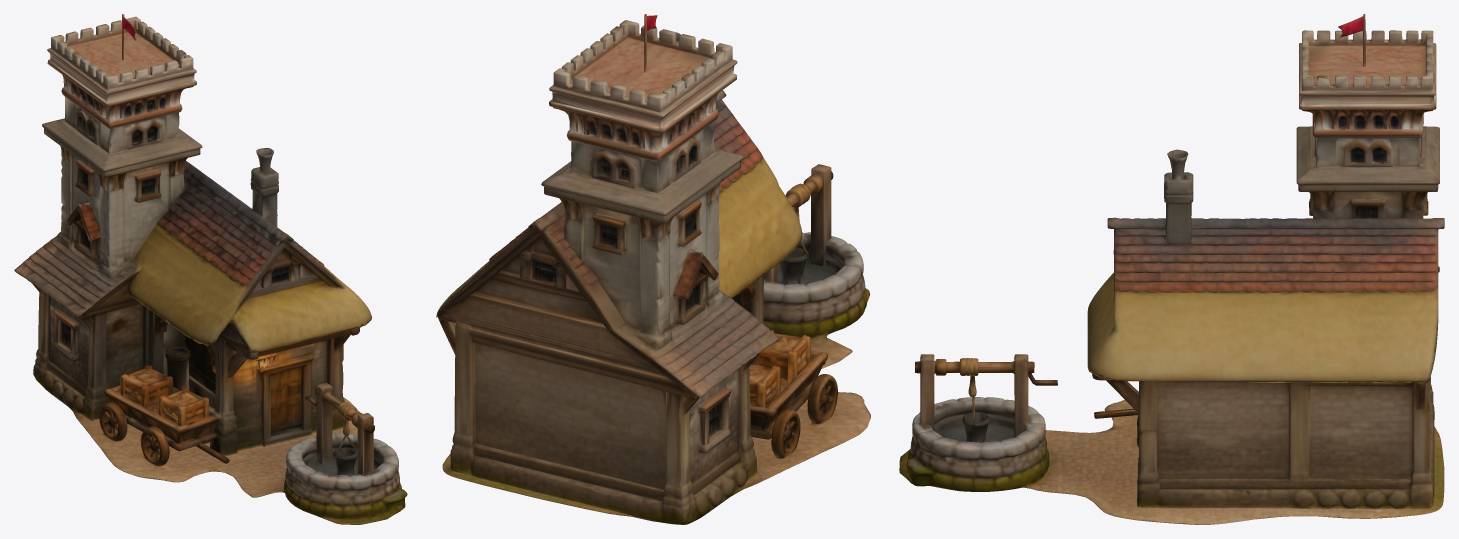
The model's file is medieval-architecture.glb.
3 renders of one model, left to right at view 1: azimuth 30°, elevation 25°; view 2: azimuth 150°, elevation 25°; view 3: azimuth 270°, elevation 25°, orthographic. The views are drawn at different scales.
Visible parts, largest first — view 1: material; view 2: material; view 3: material.
Part boxes in pixels (left/top/right/bottom): material: left=14, top=14, right=407, bottom=524; material: left=436, top=14, right=870, bottom=524; material: left=899, top=14, right=1444, bottom=524.
Size of the model in its own units: 0.5126 by 0.7555 by 0.8724.
1 material, 1 textured.
